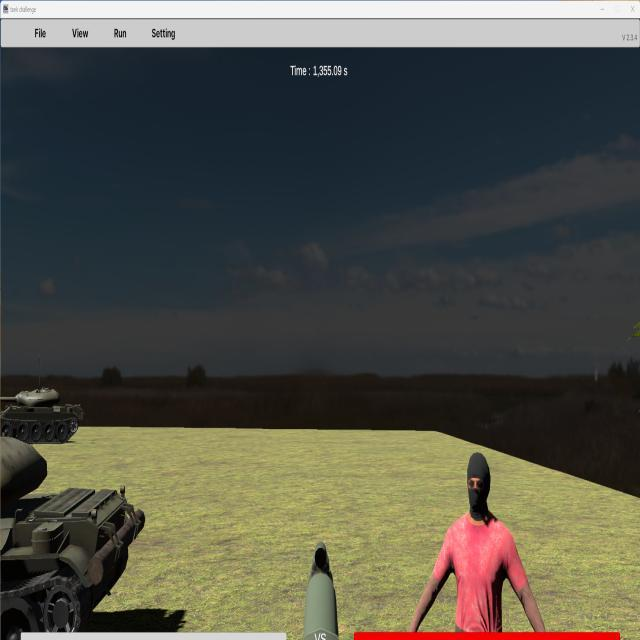Human: (408, 448, 550, 639)
Tank: (1, 419, 146, 640), (0, 384, 83, 446)
